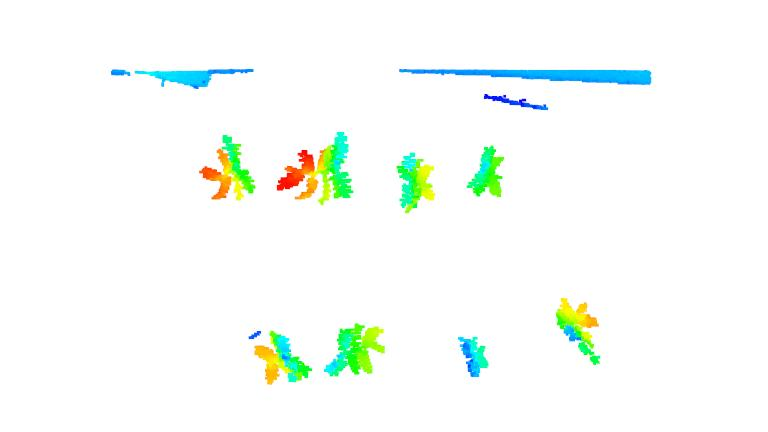chickpea: (273, 130, 357, 206), (199, 133, 259, 203), (553, 293, 607, 370), (324, 323, 390, 377), (251, 330, 312, 386), (393, 152, 438, 214), (463, 144, 509, 200), (456, 334, 492, 377)
